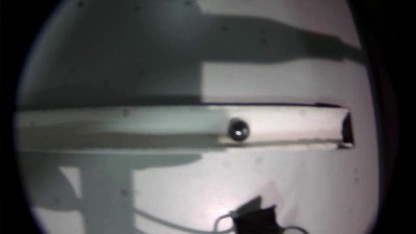gangzhu: (227, 121, 250, 140)
